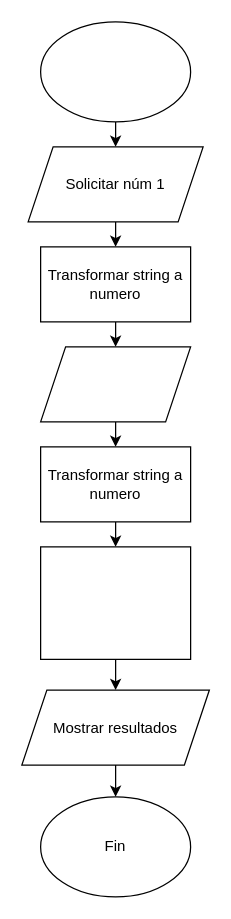
Image size: 231x919. Some labels were removed from this diagram. The centre of each missing label's shape, as x and y in pixels:
"Inicio" goes at point 115,71.
"num1 + num2 num1 - num2 num1 / num2 num1 * num2 num1 % num2" goes at point 115,602.
"Solicitrar núm 2" goes at point 115,384.
